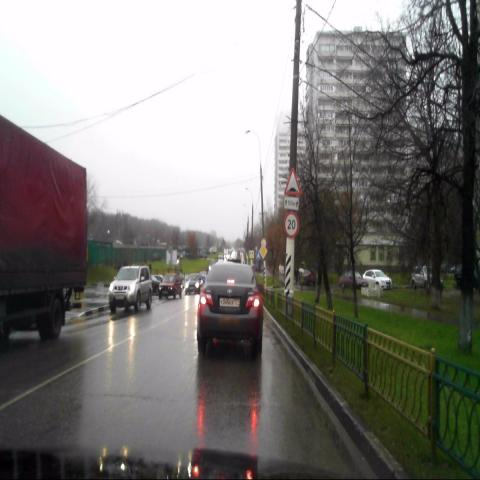1_17: (284, 168, 300, 195)
